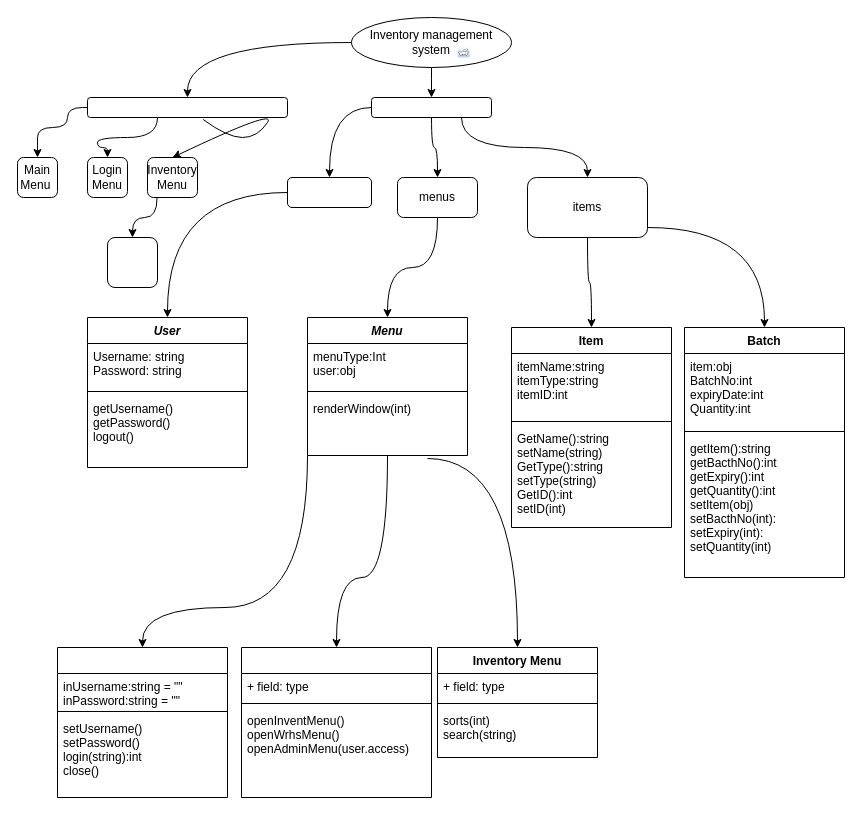
Some shapes in this 862 by 818 pixel diagram are drawn without their labels. The box of each missing label's shape, as (x1, y1, x2, y2) in pixels:
Access/ edit item Menu: (106, 236, 158, 288)
Interface: (86, 96, 288, 118)
LoginMenu: (56, 646, 228, 798)
MainMenu: (240, 646, 432, 798)
OOP: (370, 96, 492, 118)
Users: (286, 176, 372, 208)
